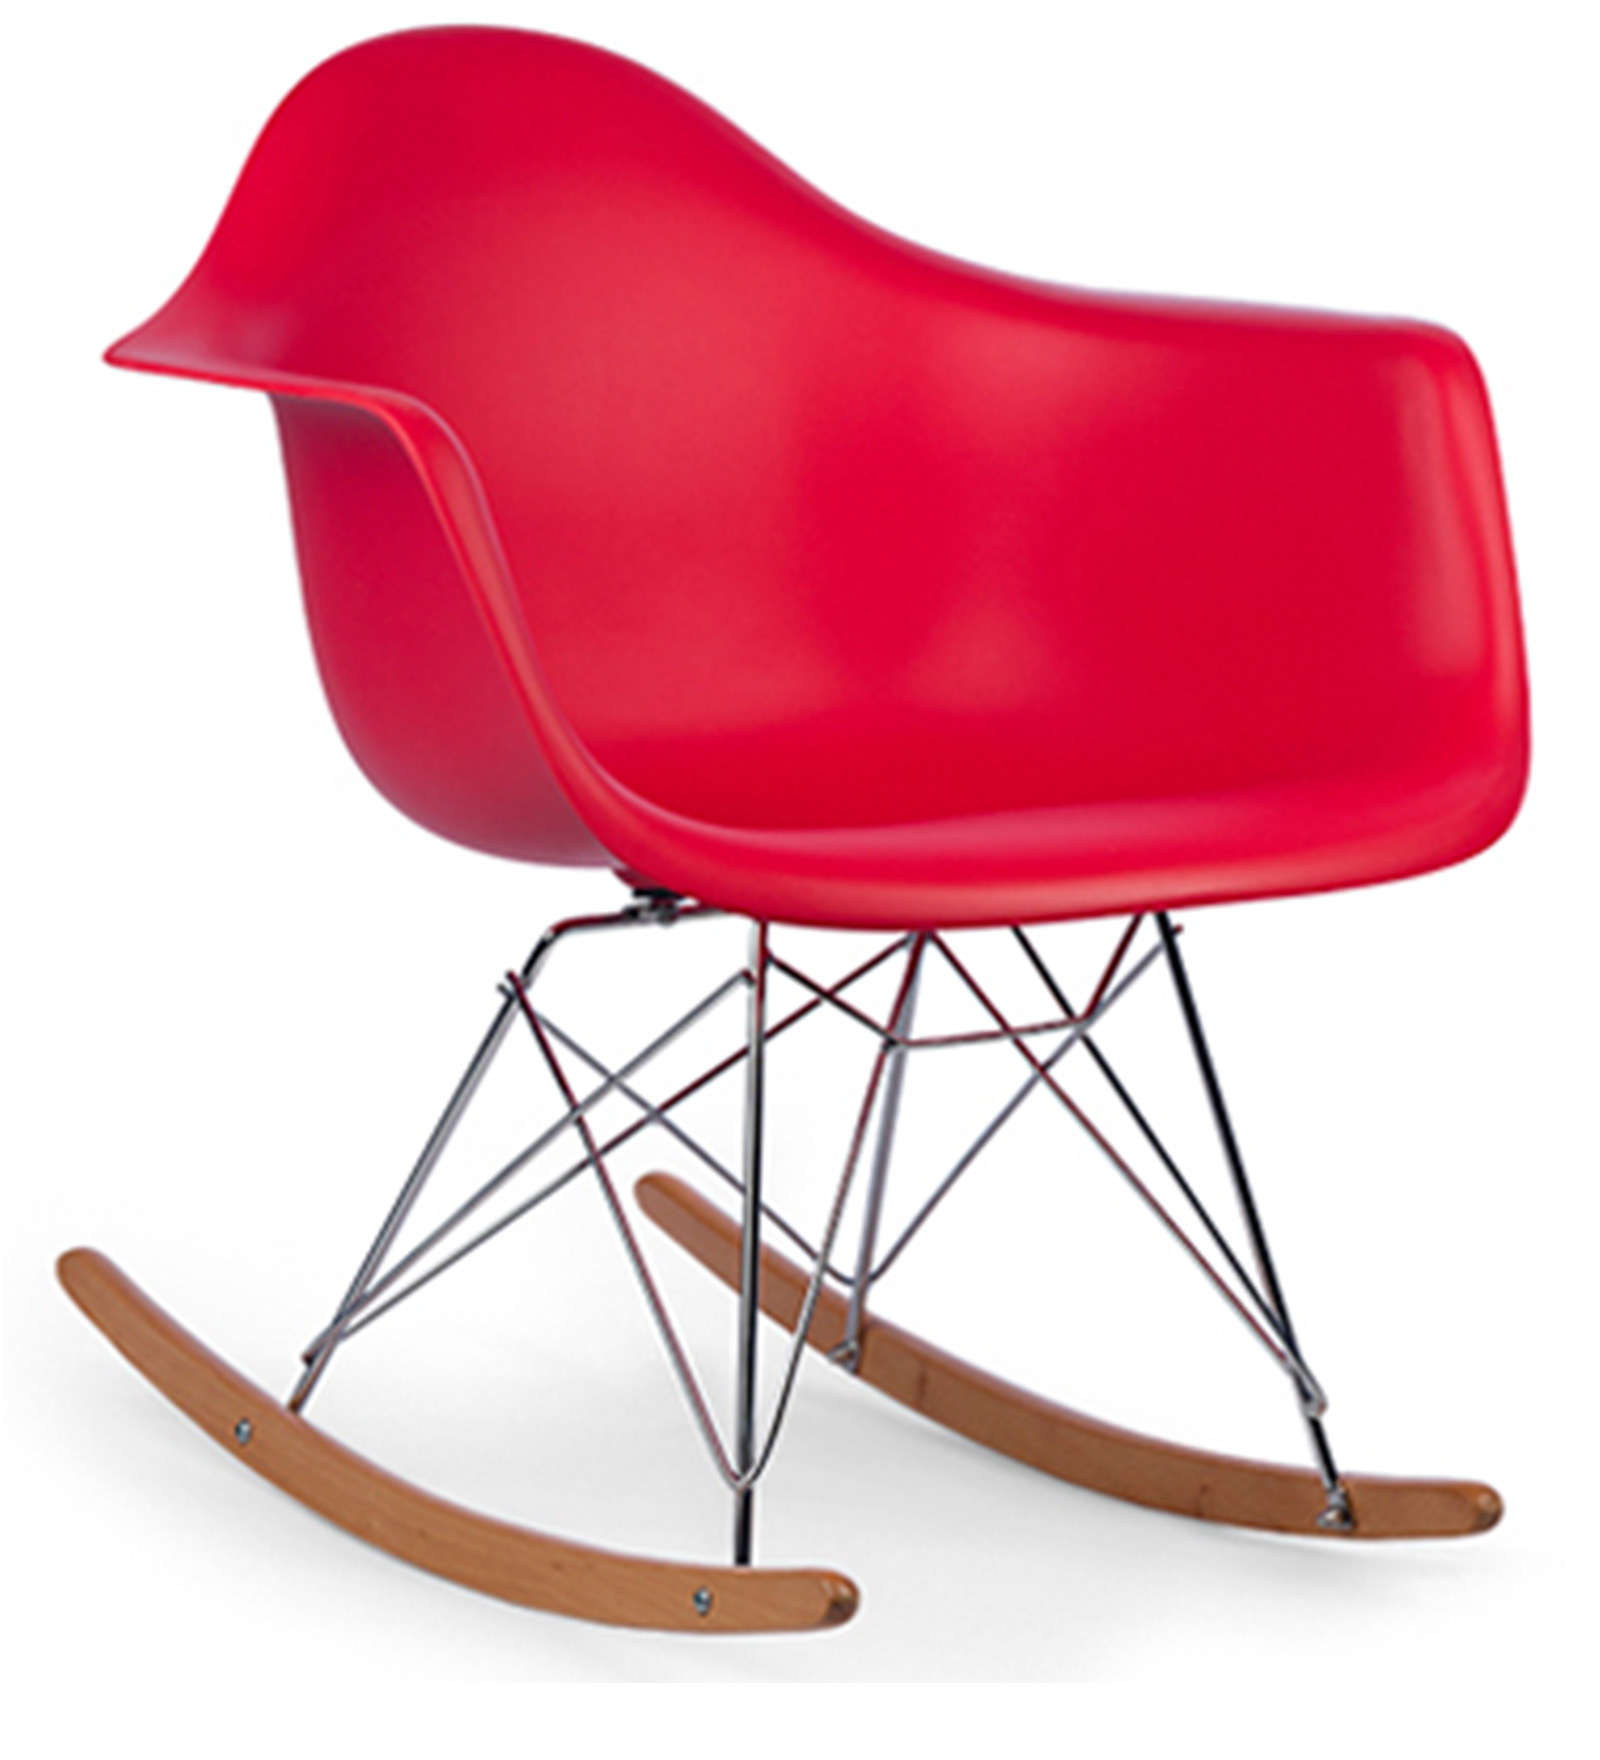Daytona Beach Club Rocking Chair in Rocking Red Colour by HomeHQ: (31, 20, 1595, 1663)
